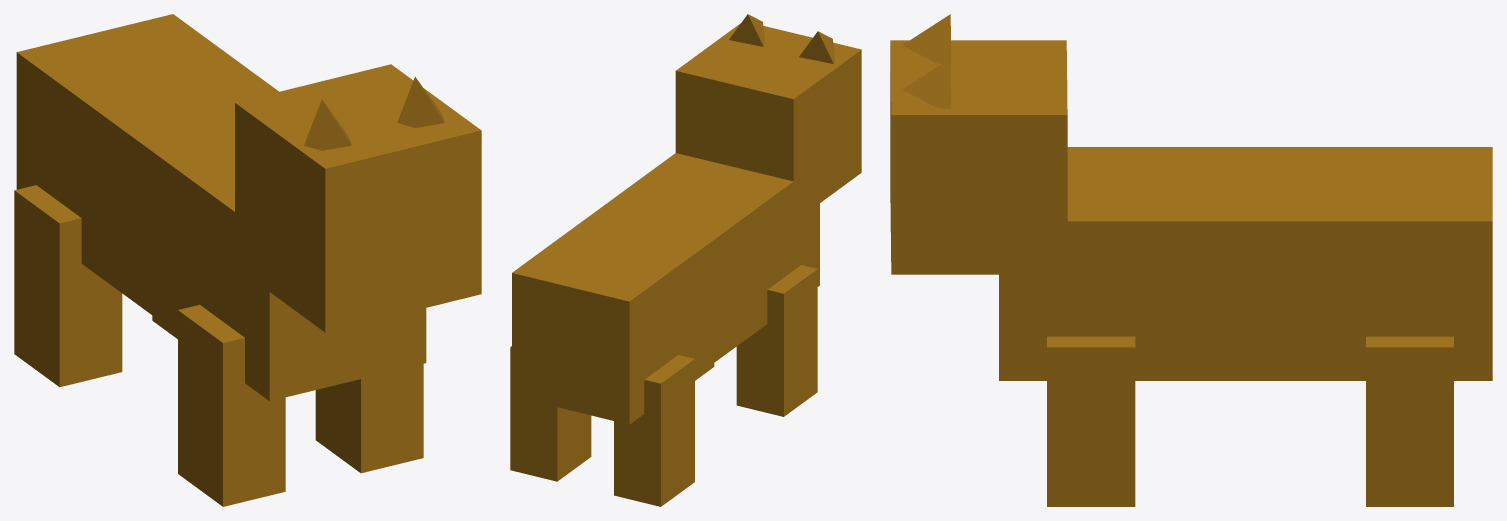
Rendered from cat.dae.
The picture shows the model from 3 angles, left to right: view 1: azimuth 30°, elevation 25°; view 2: azimuth 150°, elevation 25°; view 3: azimuth 270°, elevation 25°; orthographic projection. The views are drawn at different scales.
Visible parts, largest first — view 1: Body, Head, Leg3, Leg, Leg1, Tetrahedron, Tetrahedron1; view 2: Body, Head, Leg3, Leg, Leg2, Tetrahedron1, Tetrahedron; view 3: Body, Head, Leg1, Leg2, Tetrahedron1, Tetrahedron.
Part boxes in pixels (box(x1,y1,x2,y2)): Body: box(16, 14, 426, 400); Head: box(235, 64, 481, 332); Leg3: box(14, 185, 122, 387); Leg: box(178, 304, 285, 506); Leg1: box(315, 364, 423, 473); Tetrahedron: box(304, 99, 351, 150); Tetrahedron1: box(397, 76, 444, 127); Body: box(512, 153, 819, 424); Head: box(675, 23, 861, 221); Leg3: box(614, 355, 694, 506); Leg: box(736, 265, 817, 416); Leg2: box(510, 346, 591, 481); Tetrahedron1: box(729, 14, 764, 46); Tetrahedron: box(799, 31, 835, 63); Body: box(999, 147, 1492, 380); Head: box(890, 40, 1067, 274); Leg1: box(1047, 336, 1135, 506); Leg2: box(1366, 336, 1453, 506); Tetrahedron1: box(902, 58, 951, 109); Tetrahedron: box(902, 14, 951, 64).
Bounding box in the file's own units: 1.28 × 2.64 × 3.42.
